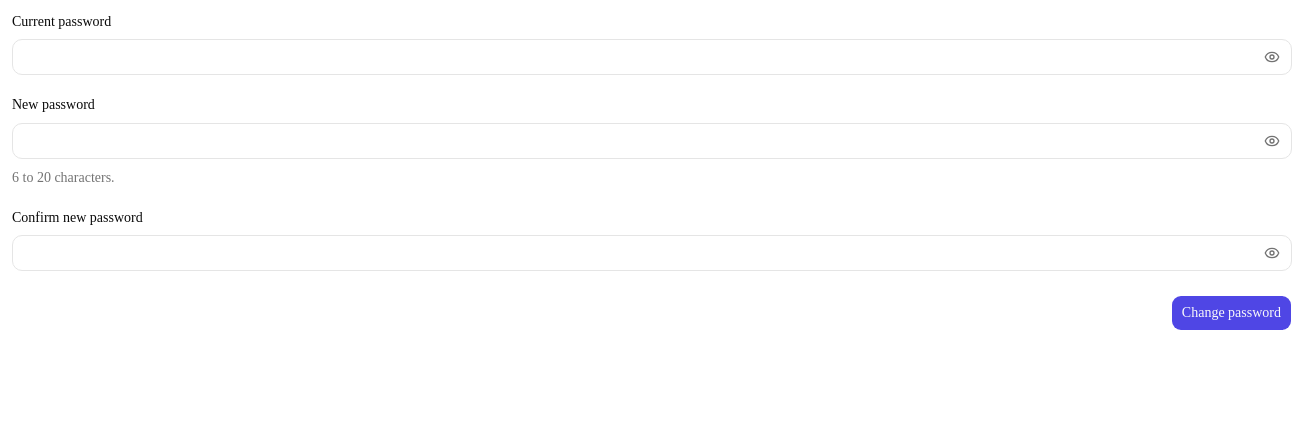
Test: ChangePasswordForm › requires every field
Click the button "Change password". click: (1231,313)
box: [1171, 295, 1292, 331]
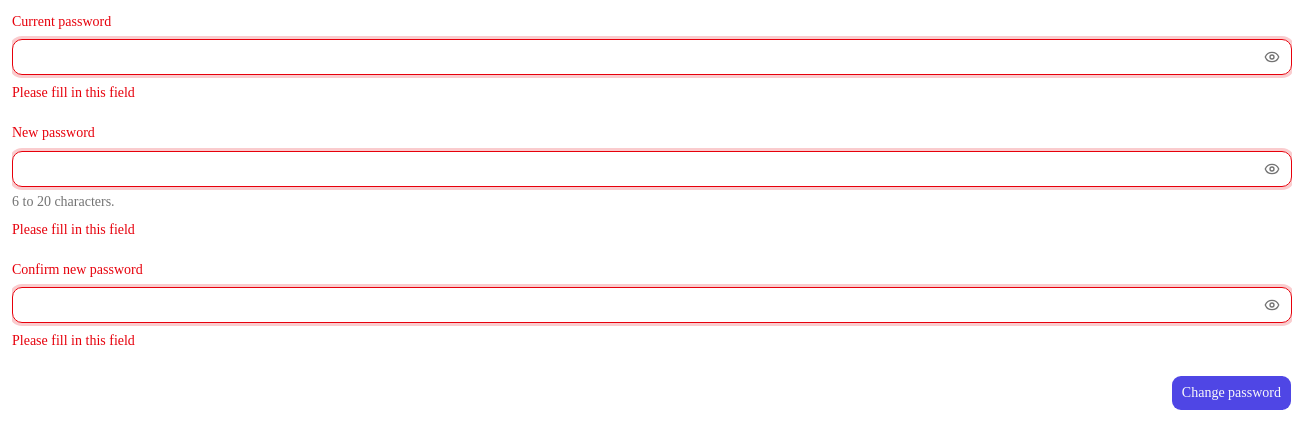
Check: the text "Please fill in this field" is shown 3 times, box [12, 85, 135, 100]; [12, 222, 135, 236]; [12, 333, 135, 348]
